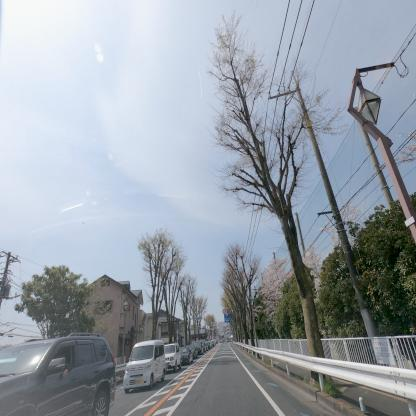Someiyoshino: (320, 194, 366, 253), (258, 250, 291, 325), (301, 237, 323, 298)
